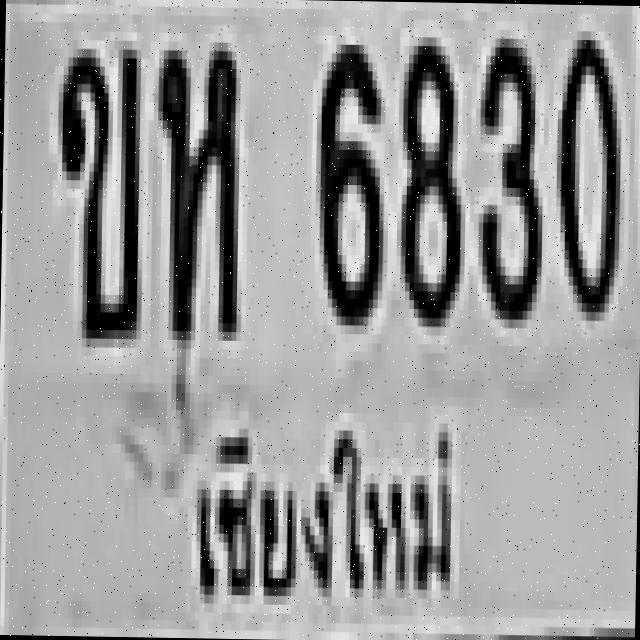0: (554, 31, 618, 312)
11KhorKhai: (52, 43, 139, 334)
3: (472, 28, 541, 320)
50HorHeep: (150, 32, 236, 332)
6: (314, 35, 382, 317)
8: (395, 28, 459, 318)
ChiangMai: (182, 406, 468, 623)
